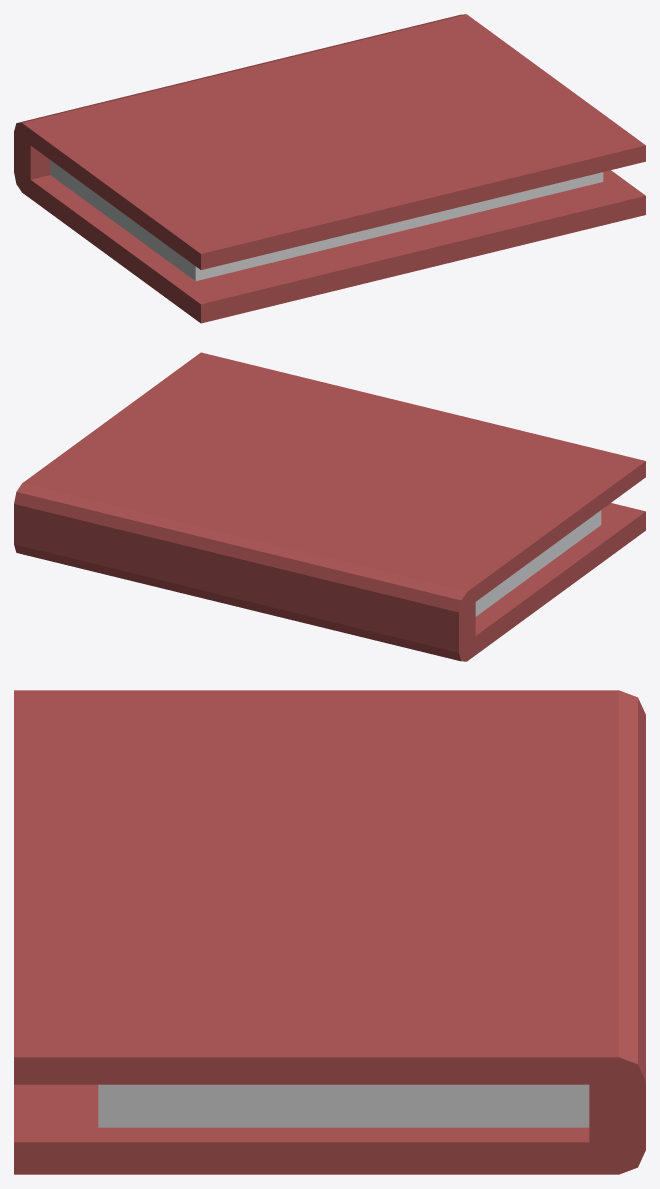
The model's file is O_Clutter_Book_Medium1.fbx.
3 renders of one model, top to bottom at view 1: azimuth 30°, elevation 25°; view 2: azimuth 150°, elevation 25°; view 3: azimuth 270°, elevation 25°, orthographic. The views are drawn at different scales.
Parts seen in each view (by area): view 1: pCube23; view 2: pCube23; view 3: pCube23.
Part boxes in pixels (x1,y1,x2,y2): pCube23: (14,14,645,323); pCube23: (14,352,645,661); pCube23: (14,690,645,1174).
Bounding box in the file's own units: 0.6502 × 0.0971 × 0.4732.
